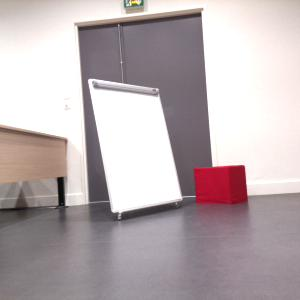big: (87, 78, 185, 214)
medium: (194, 166, 247, 205)
